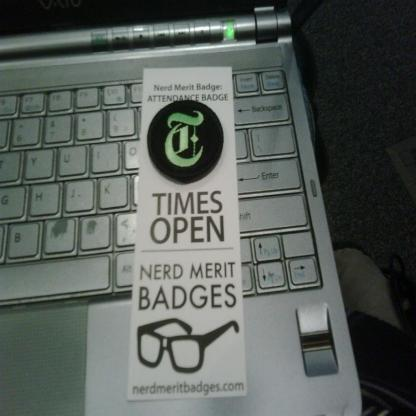board: (0, 0, 361, 414)
